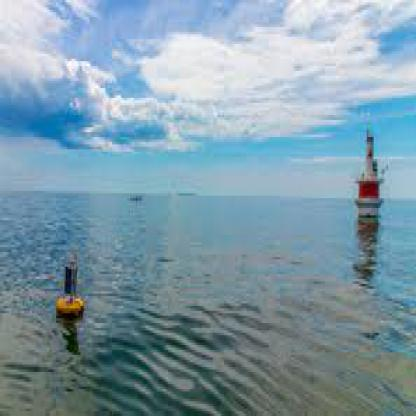buoy: (53, 249, 91, 332)
